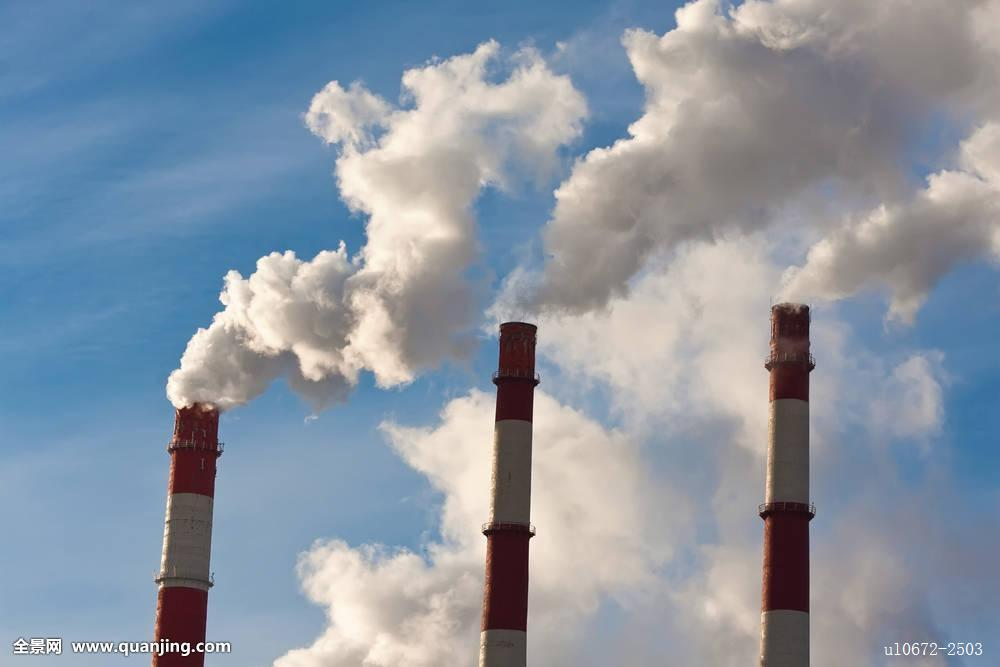dust: (470, 34, 750, 342), (153, 237, 480, 428), (744, 173, 1000, 349)
